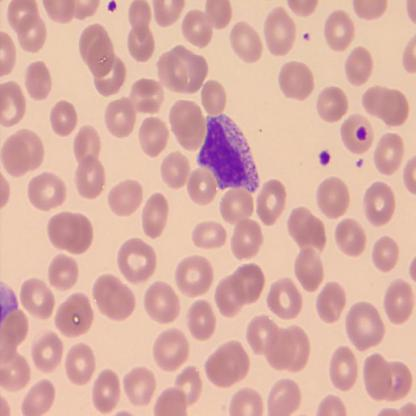Metamyelocyte: (195, 110, 262, 198)
